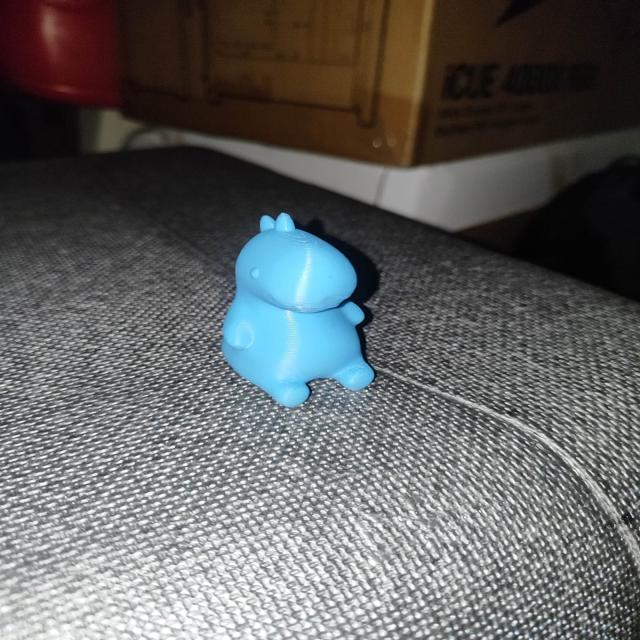DINO: (202, 211, 404, 410)
